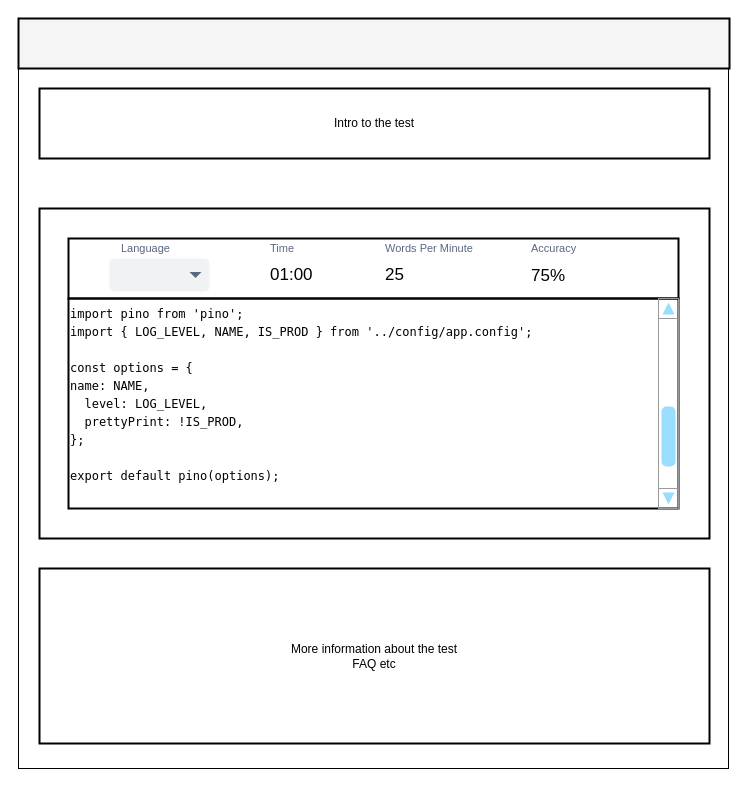
The diagram is 747 pixels wide and 786 high, and some of its shapes have lost their labels. The shapes that lost their labels are listed below. From the top down, each one's centre as x and y in pixels, then its label:
[373,43]: Programming Speed Test
[159,274]: TypeScript
